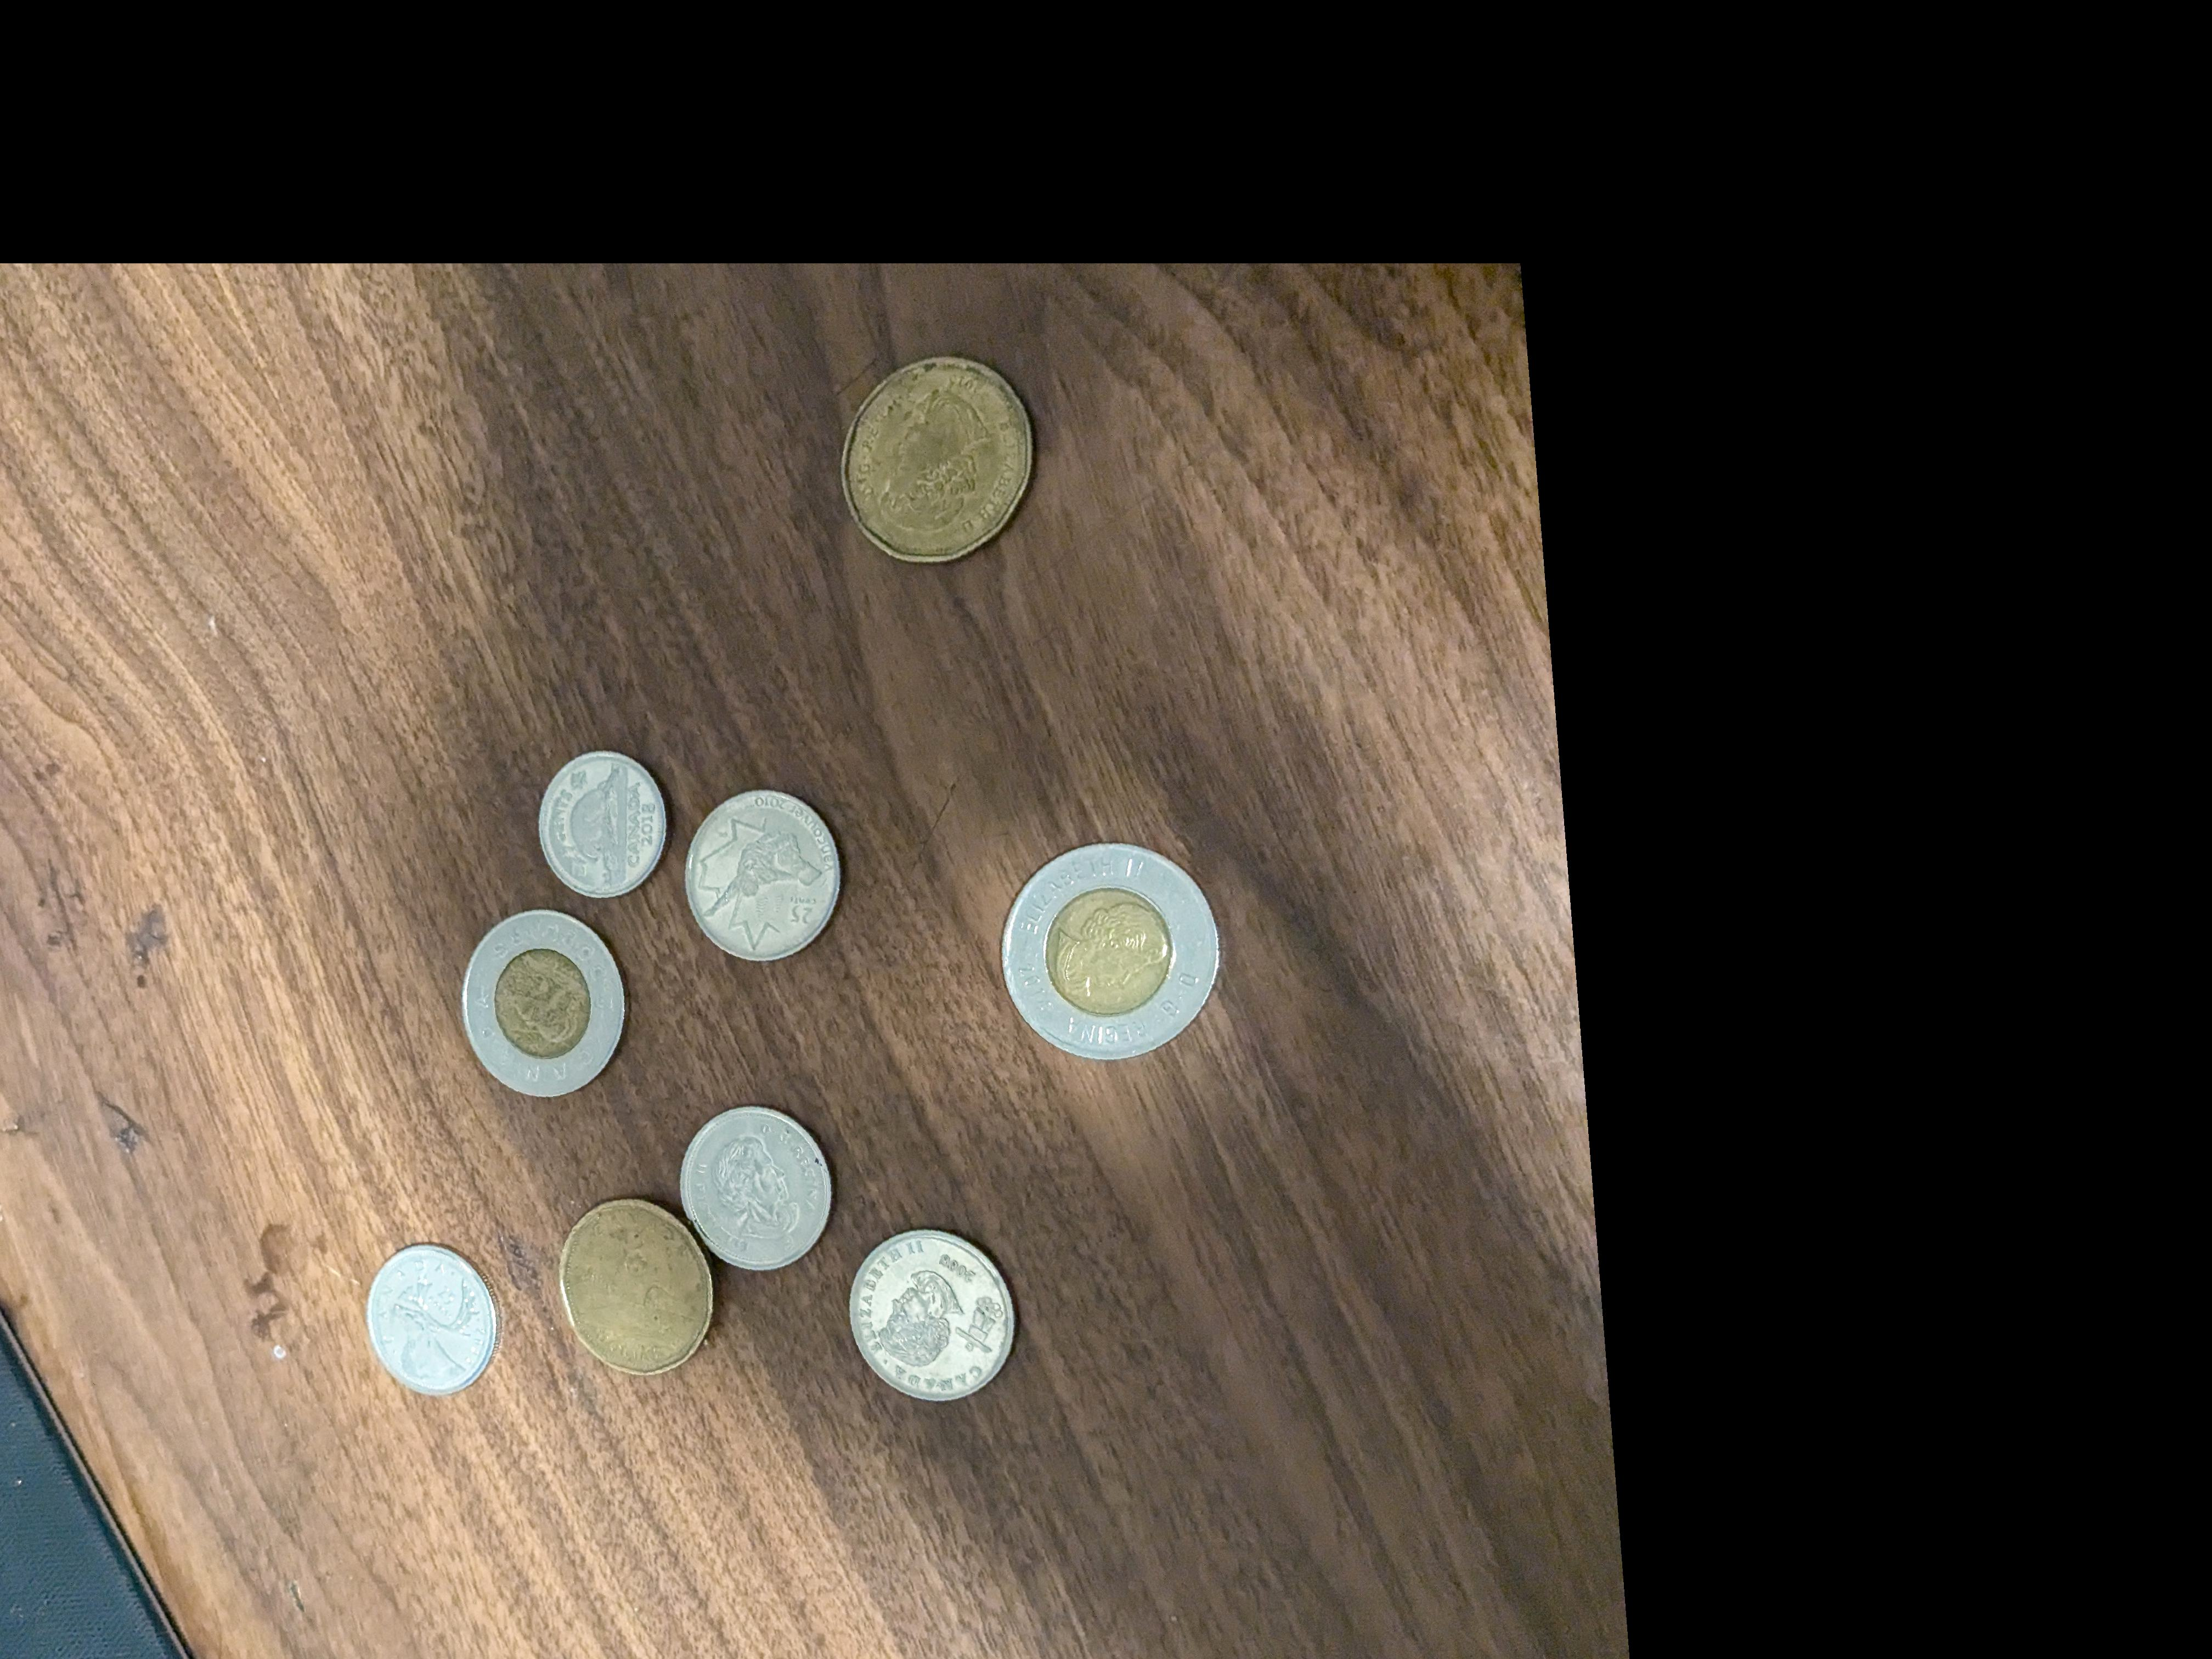loonie: (841, 350, 1035, 563), (554, 1201, 716, 1371)
nickel: (540, 746, 671, 897)
quarter: (846, 1222, 1019, 1399), (679, 789, 843, 967), (674, 1107, 831, 1269), (364, 1241, 496, 1394)
toonie: (1000, 842, 1221, 1063), (456, 906, 631, 1103)
